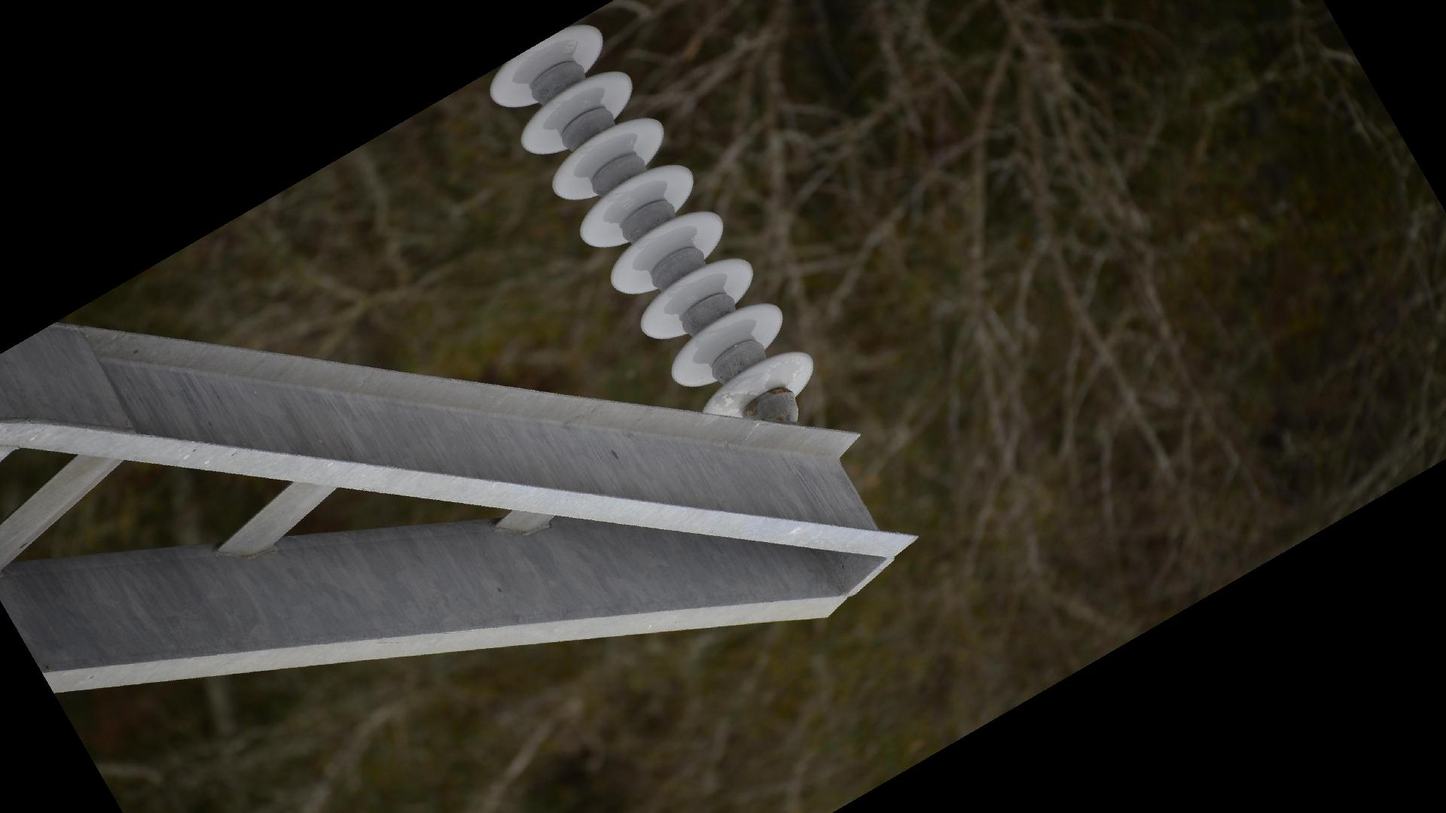insulator: (484, 16, 819, 424)
insulator_flashover: (761, 359, 802, 391), (709, 390, 756, 416)
